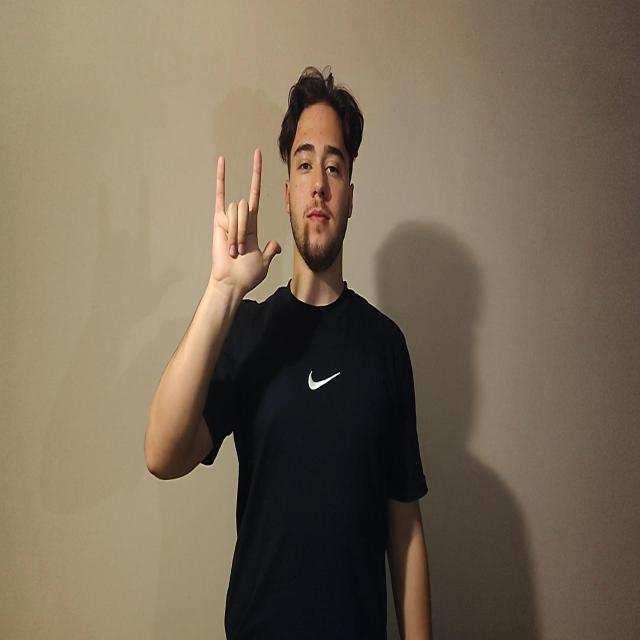iloveyou: (210, 146, 281, 300)
